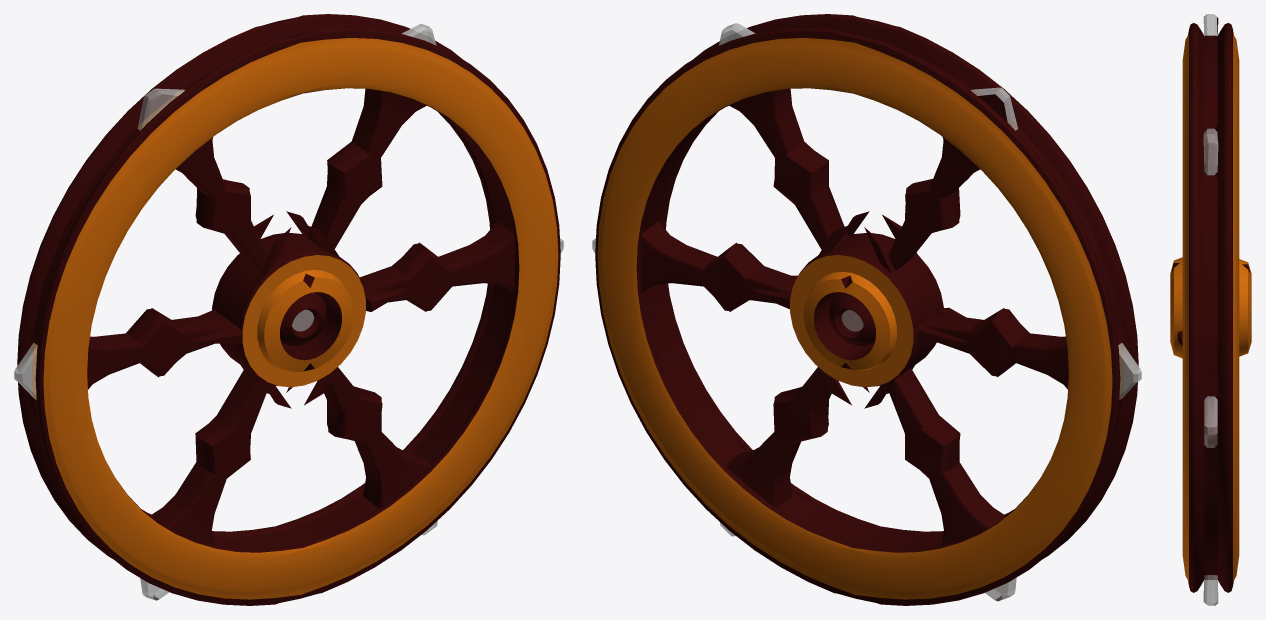
File: BossWheelSplitSmall_Hit.FBX
3 renders of one model, left to right at view 1: azimuth 30°, elevation 25°; view 2: azimuth 150°, elevation 25°; view 3: azimuth 270°, elevation 25°, orthographic. The views are drawn at different scales.
Parts seen in each view (by area): view 1: wheelBossSmall001; view 2: wheelBossSmall001; view 3: wheelBossSmall001.
Boxes of the visible parts, x1,y1,x2,y2 form: wheelBossSmall001: (14, 14, 563, 605); wheelBossSmall001: (592, 14, 1141, 605); wheelBossSmall001: (1170, 14, 1251, 605).
Size of the model in its own units: 146 by 144 by 20.46.
